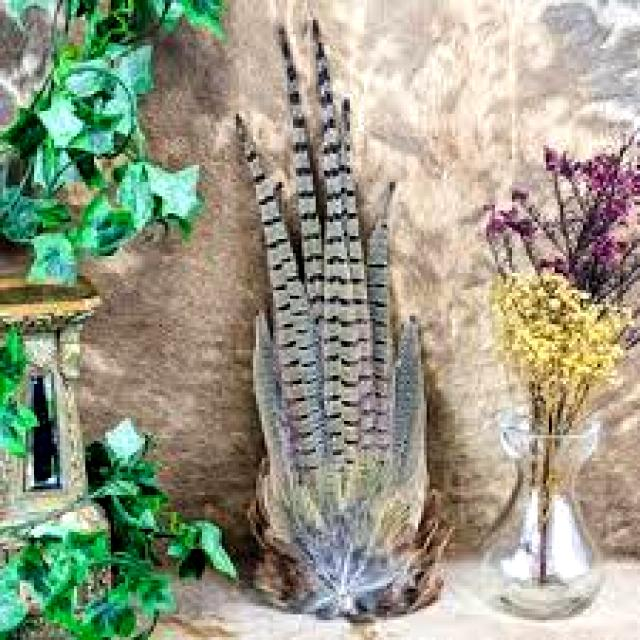Phasianus Colchicus: (237, 11, 395, 487)
